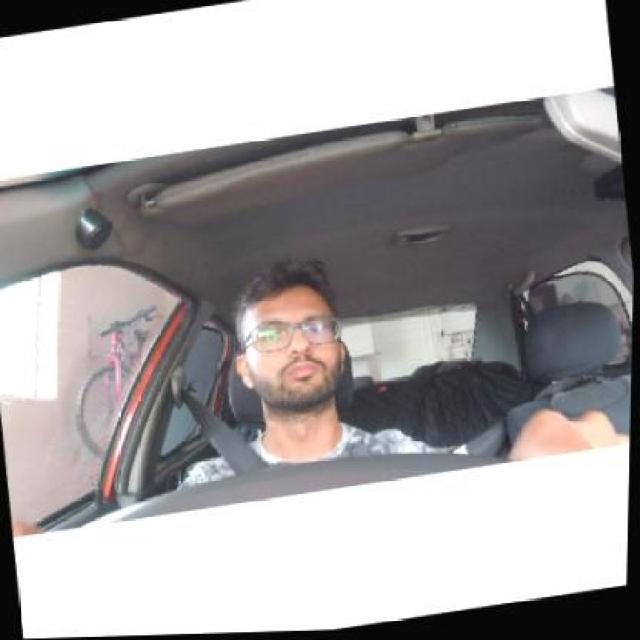person: (228, 252, 354, 418)
